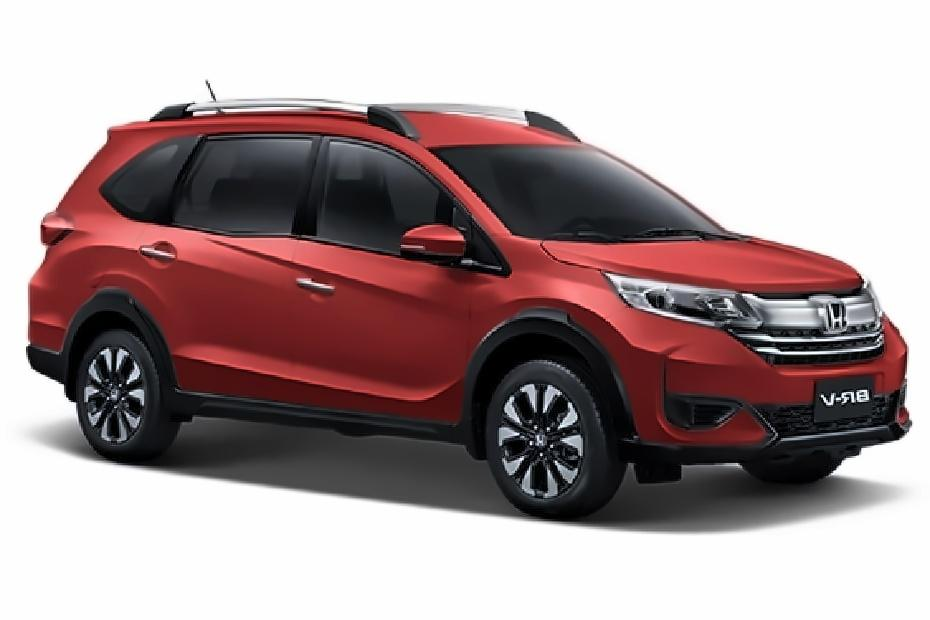Car hood: (537, 230, 868, 300)
Driver-s door - -F-R-: (292, 114, 473, 426)
Fender - -F-R-: (454, 223, 635, 452)
Fender - -R-R-: (54, 199, 149, 357)
Front bumper: (599, 310, 919, 469)
Headlight - -L-: (852, 272, 895, 322)
Headlight - -R-: (596, 264, 766, 340)
Passenger-s door - -R-R-: (124, 109, 301, 408)
Rear bumper: (23, 264, 83, 402)
Rear light - -R-: (29, 203, 90, 257)
Side bumper - -R-: (157, 374, 471, 454)
Side mirror - -R-: (382, 210, 478, 267)
